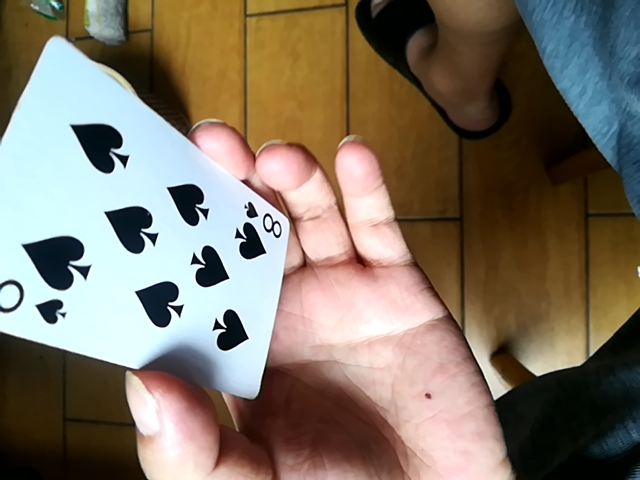ht 8: (0, 32, 287, 424)
